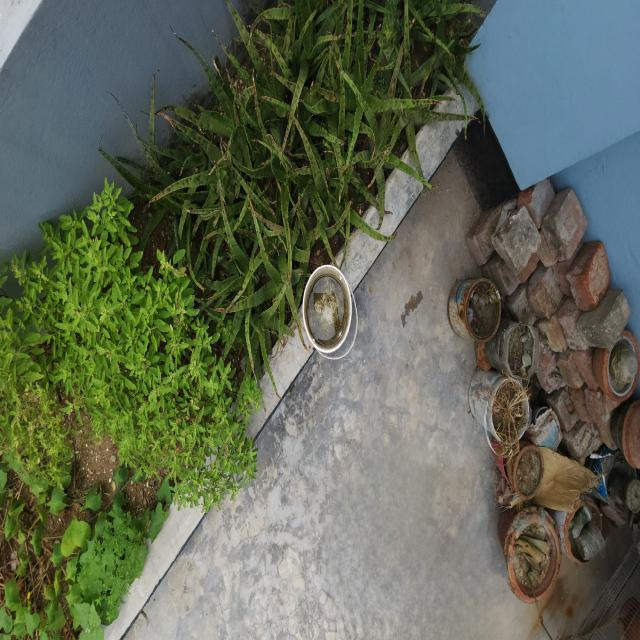Breeding Place: (125, 0, 476, 402), (0, 180, 260, 640), (444, 171, 640, 640), (280, 235, 370, 380)
